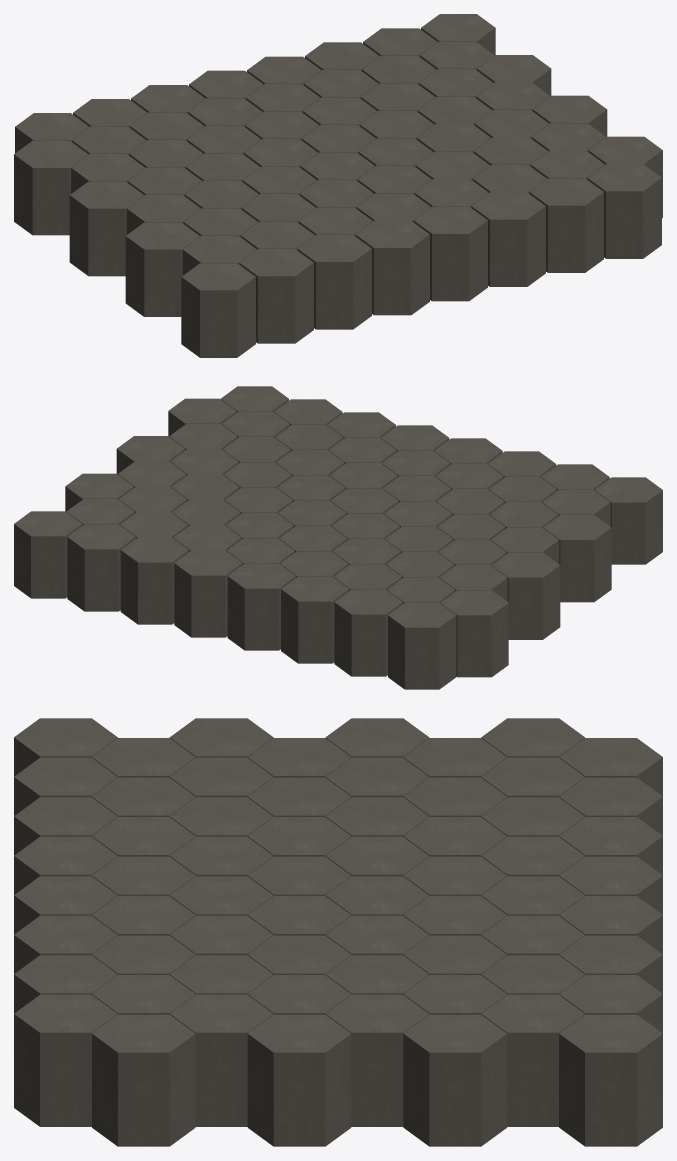
The model's file is Tile_Map_Test.fbx.
The picture shows the model from 3 angles, top to bottom: view 1: azimuth 30°, elevation 25°; view 2: azimuth 150°, elevation 25°; view 3: azimuth 270°, elevation 25°; orthographic projection. The views are drawn at different scales.
Visible parts, largest first — view 1: Cylinder.007, Cylinder.031, Cylinder.039, Cylinder.023, Cylinder.063, Cylinder.047, Cylinder.015, Cylinder.055, Cylinder.003, Cylinder.004, Cylinder, Cylinder.062 (+52 smaller); view 2: Cylinder.002, Cylinder.042, Cylinder.026, Cylinder.010, Cylinder.018, Cylinder.034, Cylinder.050, Cylinder.058, Cylinder.003, Cylinder, Cylinder.004, Cylinder.007 (+52 smaller); view 3: Cylinder.062, Cylinder.057, Cylinder.061, Cylinder.058, Cylinder.063, Cylinder.060, Cylinder.059, Cylinder.056, Cylinder.015, Cylinder.031, Cylinder.047, Cylinder.002 (+52 smaller).
Part boxes in pixels (x1=…): Cylinder.007: x1=181, y1=263, x2=255, y2=357; Cylinder.031: x1=355, y1=220, x2=429, y2=315; Cylinder.039: x1=413, y1=206, x2=487, y2=301; Cylinder.023: x1=297, y1=235, x2=371, y2=329; Cylinder.063: x1=587, y1=164, x2=661, y2=258; Cylinder.047: x1=471, y1=192, x2=545, y2=286; Cylinder.015: x1=239, y1=249, x2=313, y2=343; Cylinder.055: x1=529, y1=178, x2=603, y2=272; Cylinder.003: x1=69, y1=181, x2=144, y2=276; Cylinder.004: x1=125, y1=222, x2=199, y2=316; Cylinder: x1=14, y1=140, x2=88, y2=235; Cylinder.062: x1=532, y1=95, x2=607, y2=136; Cylinder.002: x1=388, y1=602, x2=456, y2=689; Cylinder.042: x1=120, y1=537, x2=189, y2=624; Cylinder.026: x1=227, y1=563, x2=296, y2=650; Cylinder.010: x1=334, y1=589, x2=402, y2=676; Cylinder.018: x1=281, y1=576, x2=349, y2=663; Cylinder.034: x1=174, y1=550, x2=242, y2=637; Cylinder.050: x1=67, y1=524, x2=135, y2=611; Cylinder.058: x1=14, y1=511, x2=82, y2=598; Cylinder.003: x1=491, y1=552, x2=560, y2=639; Cylinder: x1=440, y1=590, x2=508, y2=677; Cylinder.004: x1=543, y1=515, x2=611, y2=602; Cylinder.007: x1=594, y1=477, x2=662, y2=564; Cylinder.062: x1=247, y1=1014, x2=351, y2=1146; Cylinder.057: x1=403, y1=1014, x2=507, y2=1146; Cylinder.061: x1=92, y1=1014, x2=195, y2=1146; Cylinder.058: x1=559, y1=1014, x2=662, y2=1146; Cylinder.063: x1=14, y1=994, x2=117, y2=1126; Cylinder.060: x1=169, y1=994, x2=273, y2=1126; Cylinder.059: x1=325, y1=994, x2=429, y2=1126; Cylinder.056: x1=481, y1=994, x2=584, y2=1126; Cylinder.015: x1=14, y1=757, x2=117, y2=815; Cylinder.031: x1=14, y1=836, x2=117, y2=894; Cylinder.047: x1=14, y1=915, x2=117, y2=973; Cylinder.002: x1=559, y1=738, x2=662, y2=796.
Bounding box in the file's own units: 1250 × 1523 × 200.
Materials: 1 (1 with a texture image).
